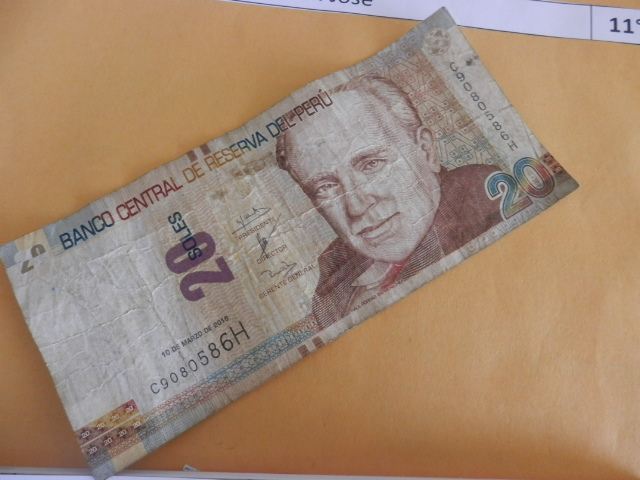B20: (20, 19, 573, 466)
